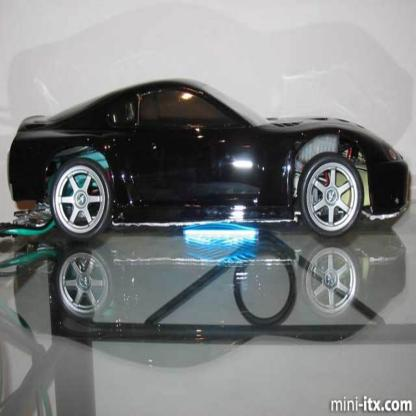Car: (8, 77, 410, 240)
